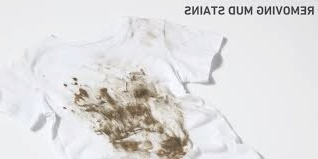earth: (96, 90, 153, 137), (157, 137, 187, 158), (112, 139, 153, 152), (74, 91, 93, 112), (63, 78, 80, 86)
